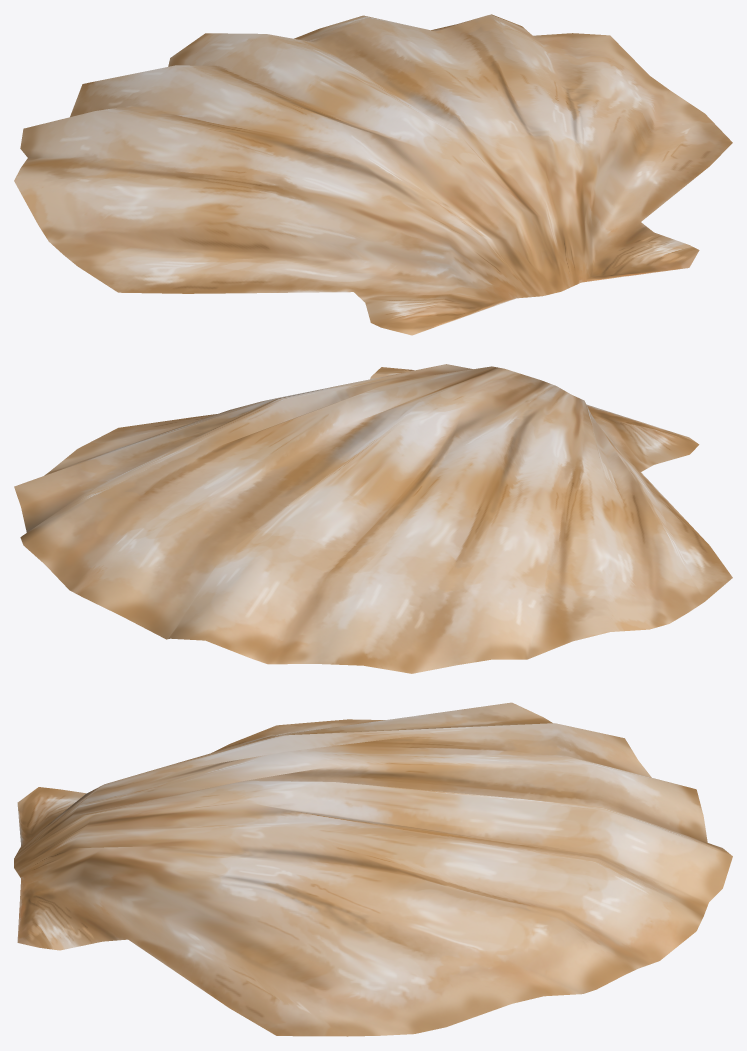
File: Seashell1.glb
3 views of the same model, one above another, from view 1: azimuth 30°, elevation 25°; view 2: azimuth 150°, elevation 25°; view 3: azimuth 270°, elevation 25° (orthographic). The views are drawn at different scales.
Parts seen in each view (by area): view 1: seashell:seashell_msh_seashell:seashellmat1_0; view 2: seashell:seashell_msh_seashell:seashellmat1_0; view 3: seashell:seashell_msh_seashell:seashellmat1_0.
Part boxes in pixels (bbox=[...]): seashell:seashell_msh_seashell:seashellmat1_0: bbox=[14, 14, 732, 335]; seashell:seashell_msh_seashell:seashellmat1_0: bbox=[14, 364, 732, 673]; seashell:seashell_msh_seashell:seashellmat1_0: bbox=[14, 702, 732, 1036].
Size of the model in its own units: 0.1616 by 0.0235 by 0.1549.
Materials: 1 (1 with a texture image).
